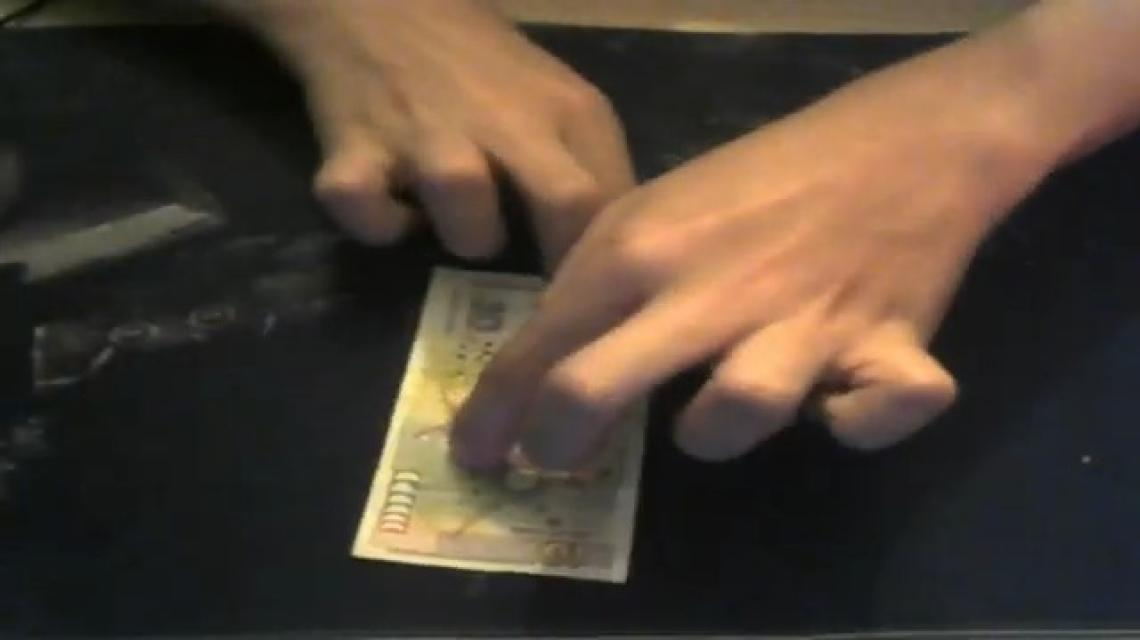10leva: (349, 265, 643, 585)
